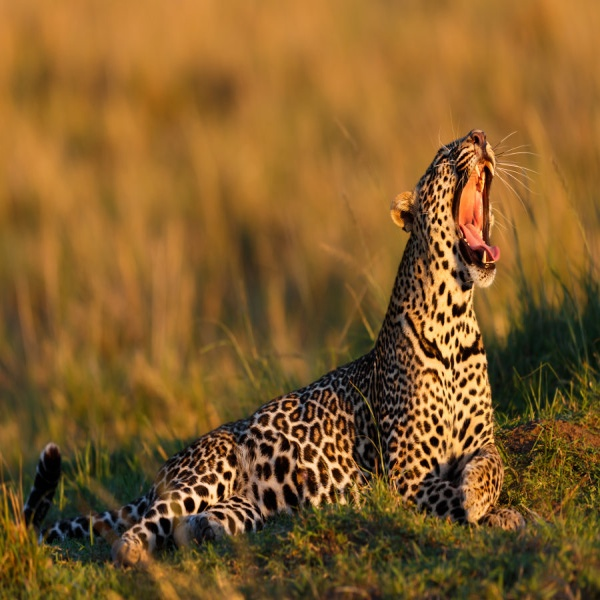Leopard: (25, 125, 513, 565)
